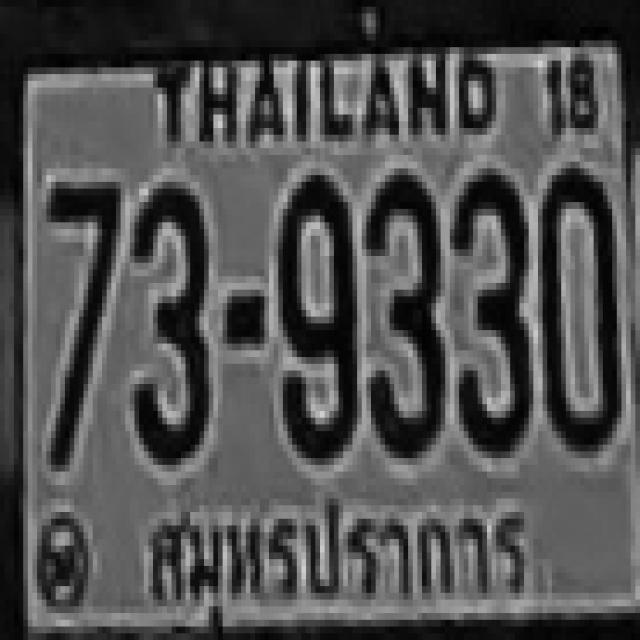0: (538, 162, 617, 444)
3: (362, 168, 441, 452), (450, 165, 529, 448), (130, 175, 204, 458)
7: (46, 175, 116, 465), (46, 175, 116, 377)
9: (274, 169, 352, 458)
SamutPrakan: (129, 493, 540, 618)
